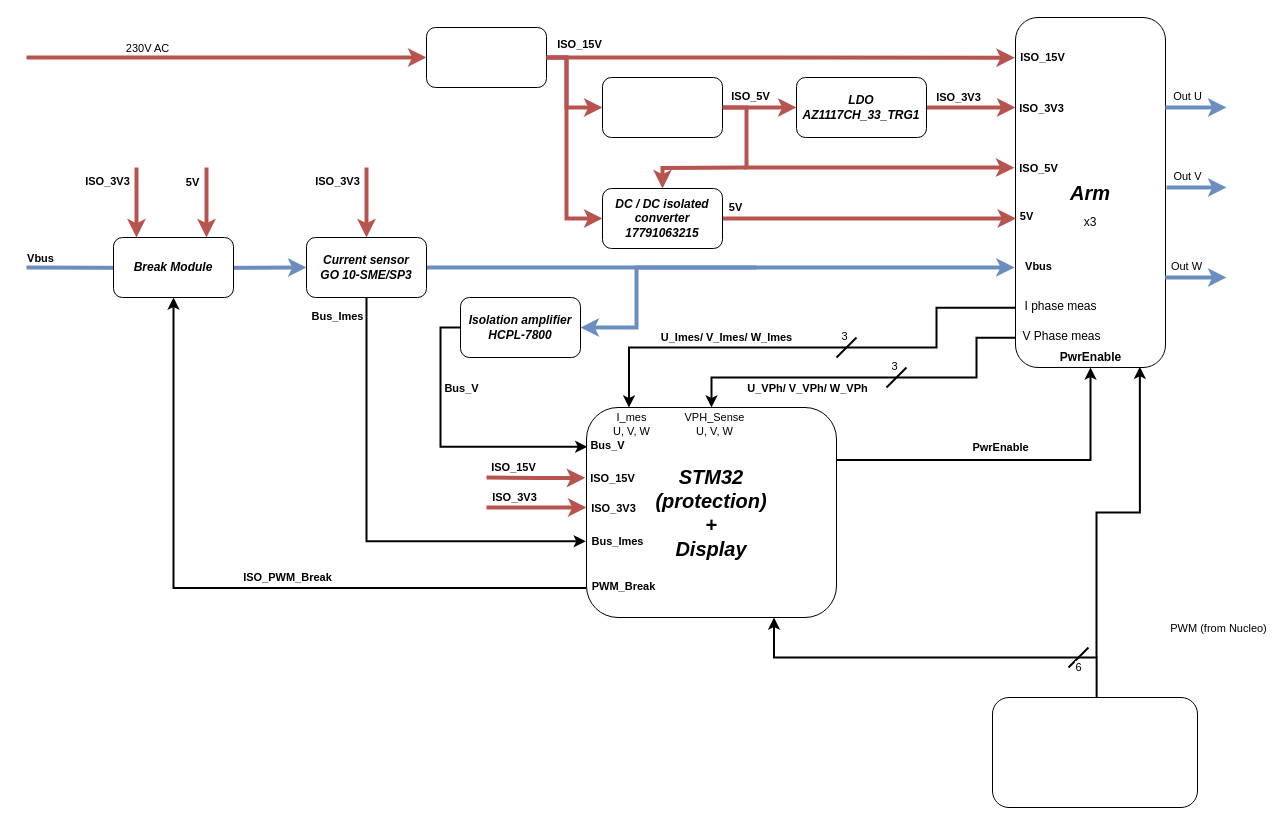
Some shapes in this 1284 by 825 pixel diagram are drawn without their labels. The shapes that lost their labels are listed below. From the top down, each one's centre as x and y in pixels, then its label:
At [486,57]: "AC/DC converter MP_LD30_23B15R2".
At [662,107]: "DC / DC buck converter 173010542".
At [1095,752]: "NUCLEO".
